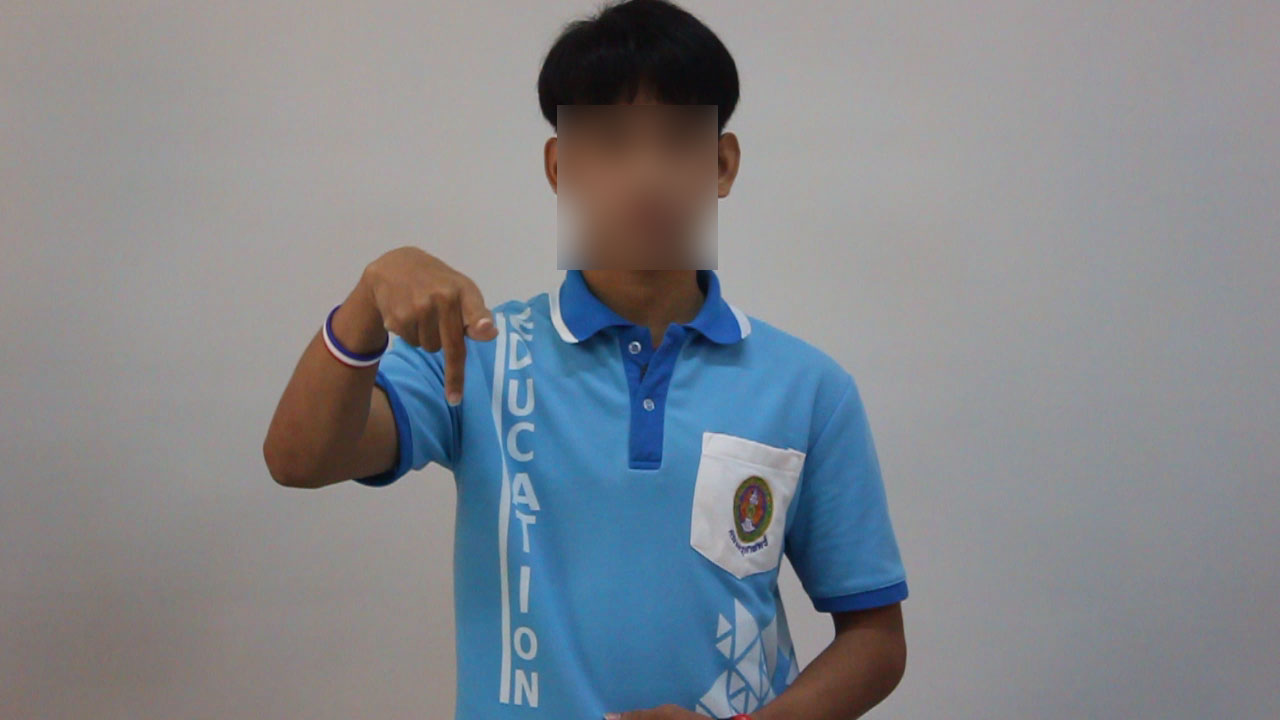por: (350, 220, 512, 411)
